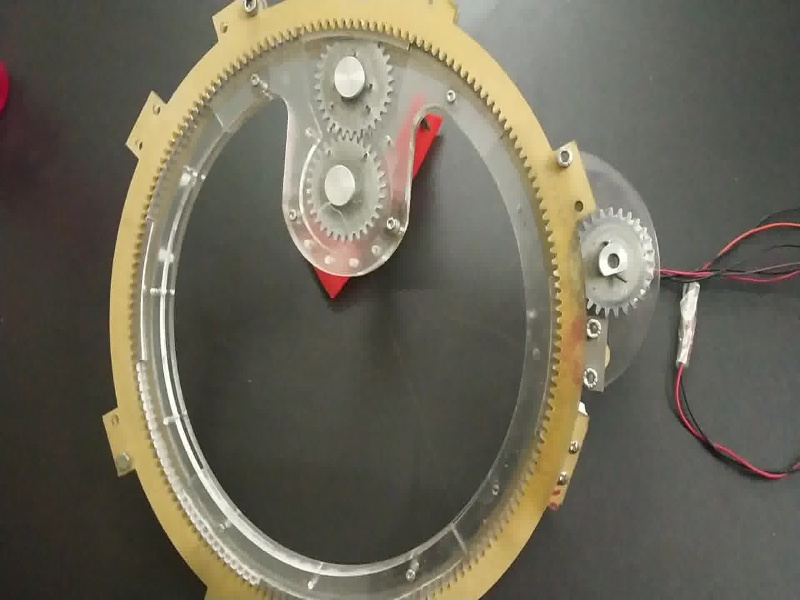stirrer: (277, 41, 415, 277)
